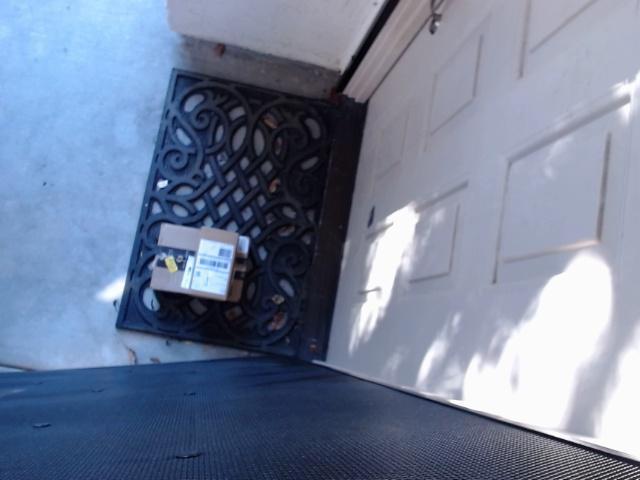box: (149, 222, 250, 304), (188, 227, 240, 301)
